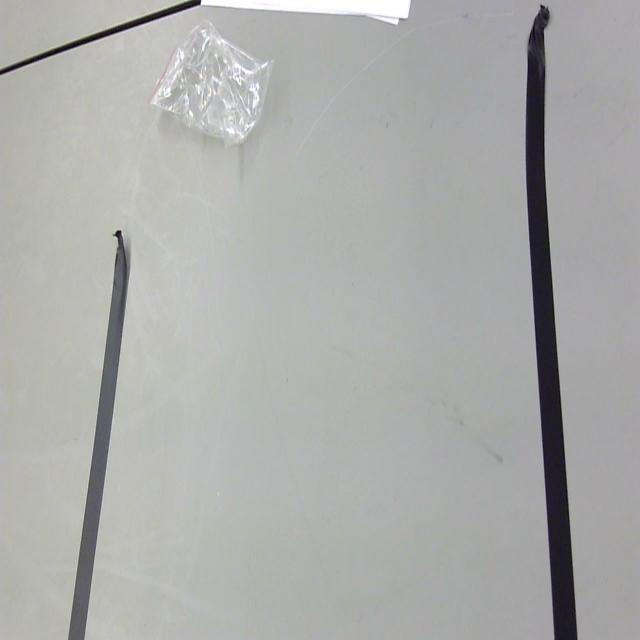tape: (516, 0, 591, 640), (52, 206, 148, 640)
